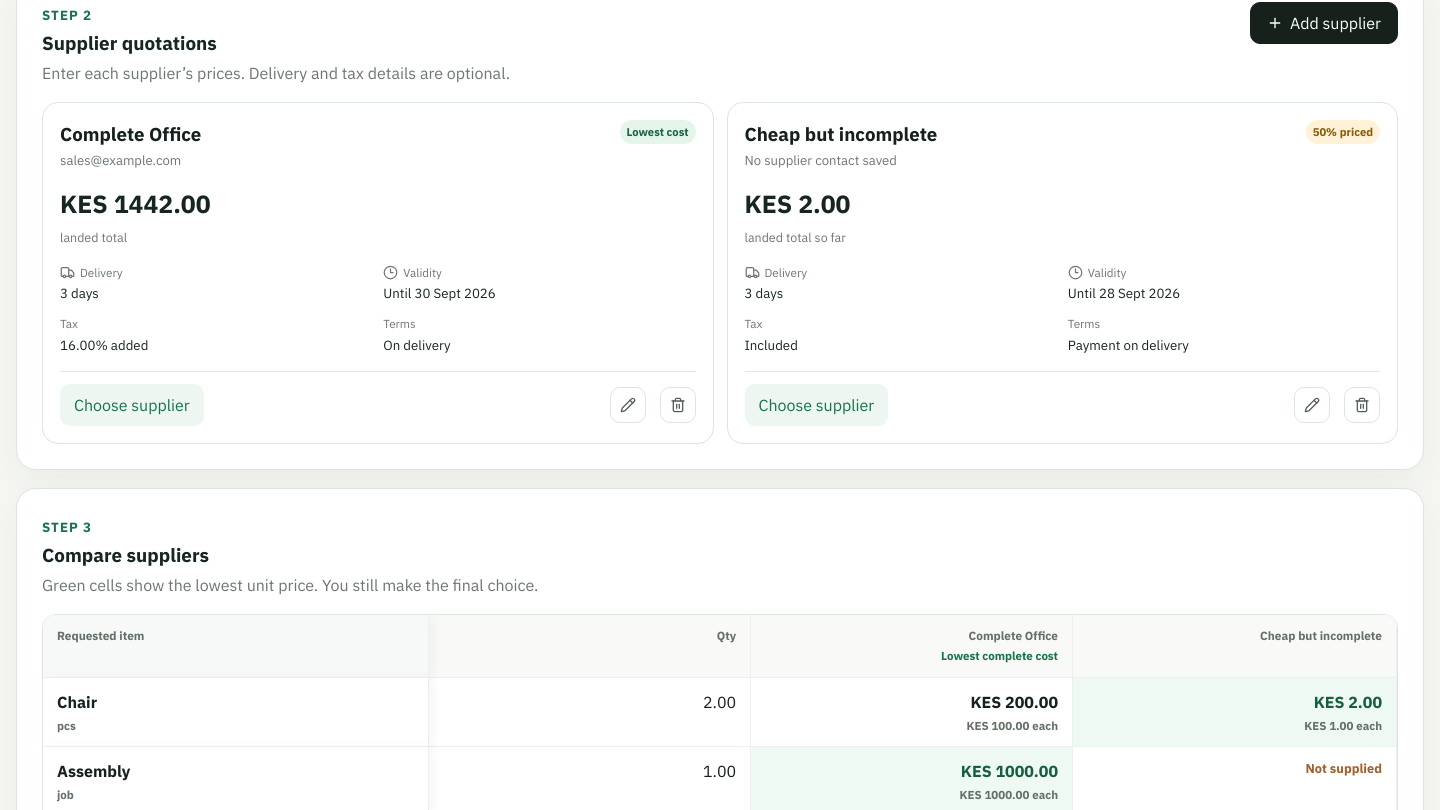
Scenario: Quotations › keeps lowest cost separate from the user's preferred supplier
(page scrolled)
Click the button "Choose supplier" below "Included" at (816, 405), box left=744, top=384, right=888, bottom=426
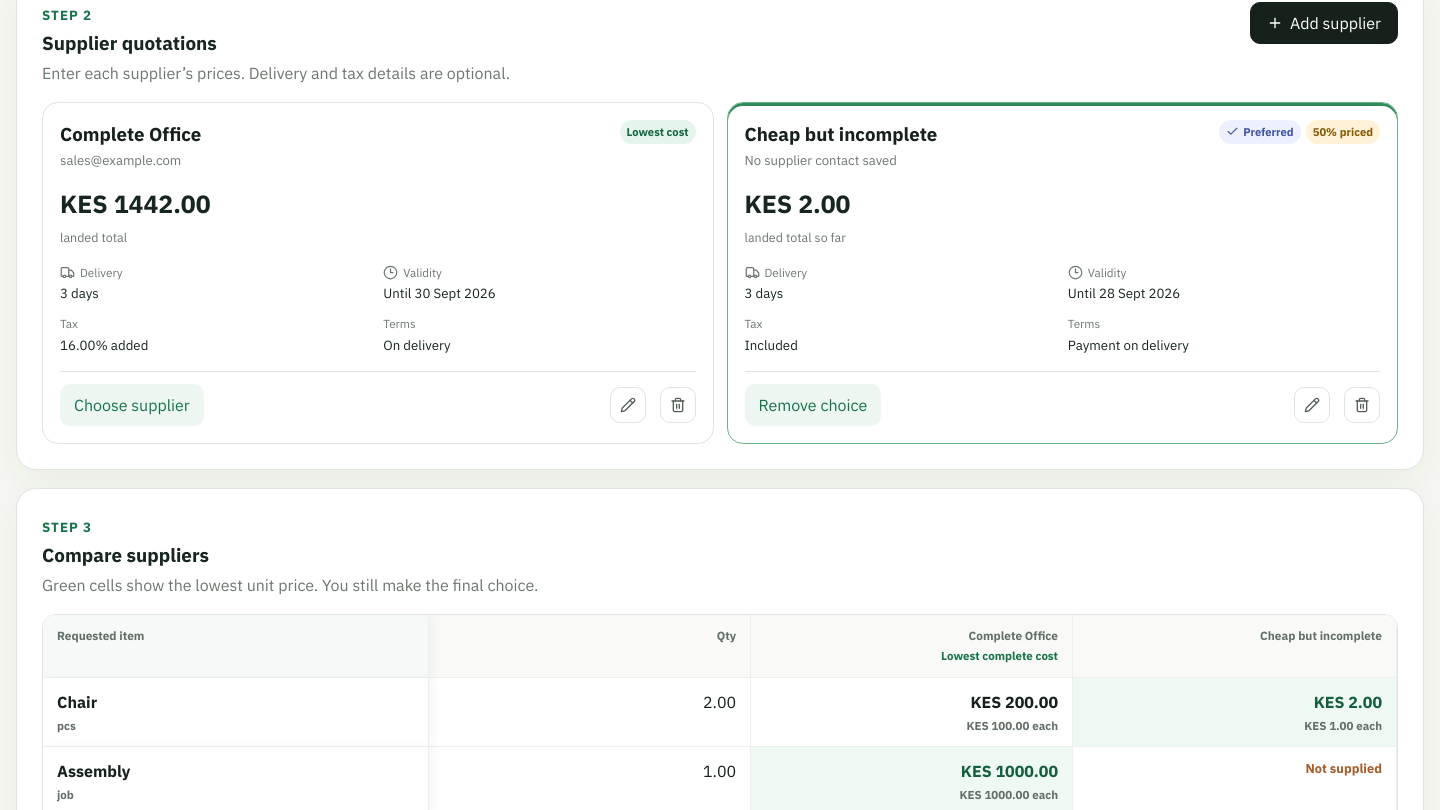
Expected: the text "Lowest cost" is shown once, left=620, top=120, right=696, bottom=144
Expected: the text "Preferred" is shown, left=1219, top=120, right=1301, bottom=144
